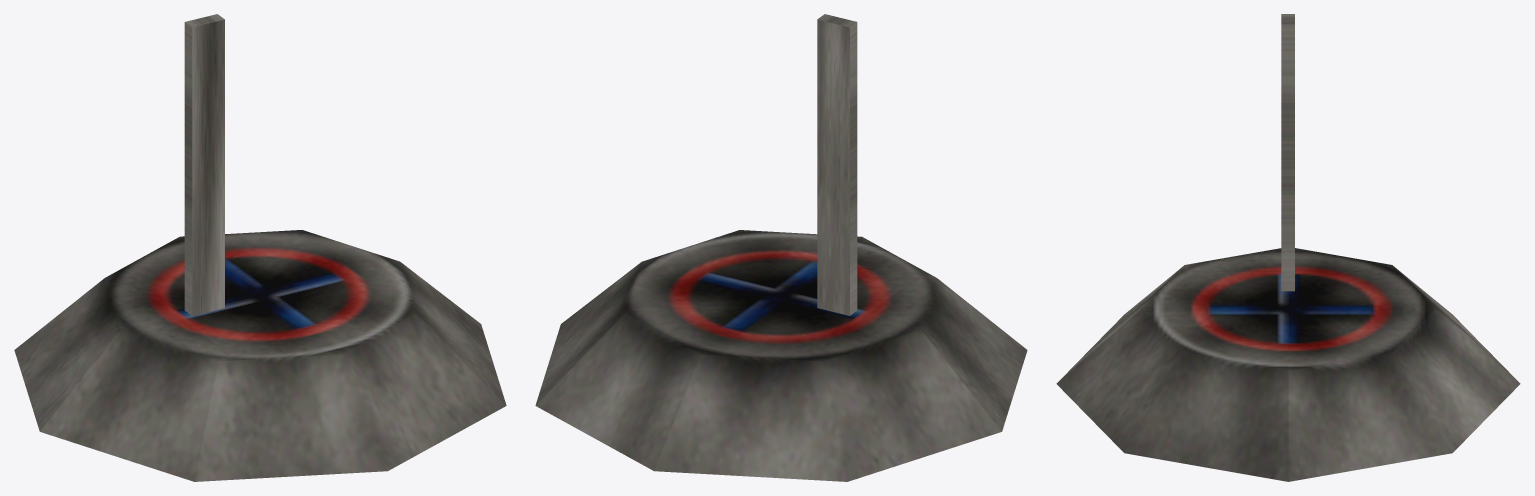
The model's file is RocketPad.glb.
3 views of the same model, side by side, from view 1: azimuth 30°, elevation 25°; view 2: azimuth 150°, elevation 25°; view 3: azimuth 270°, elevation 25° (orthographic). The views are drawn at different scales.
Visible parts, largest first — view 1: RocketPad; view 2: RocketPad; view 3: RocketPad.
Boxes of the visible parts, <box> form: RocketPad: <box>14,14,506,481</box>; RocketPad: <box>535,14,1027,481</box>; RocketPad: <box>1056,14,1520,481</box>.
Size of the model in its own units: 225 by 180 by 225.
Materials: 1 (1 with a texture image).
